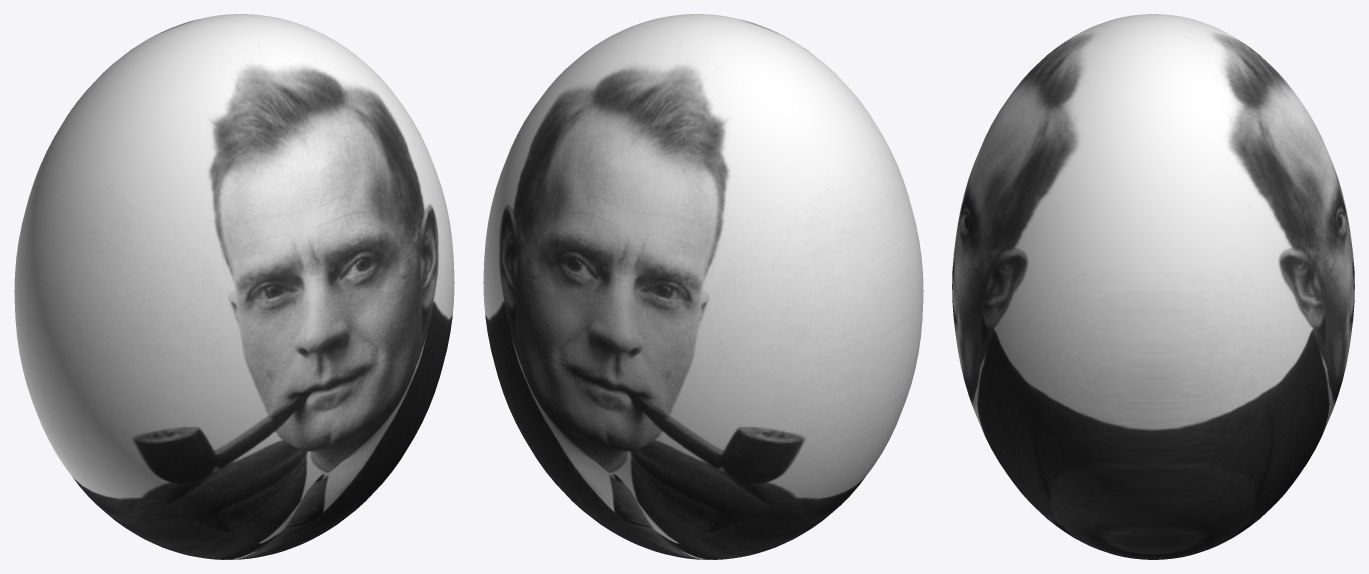
The picture shows the model from 3 angles, left to right: view 1: azimuth 30°, elevation 25°; view 2: azimuth 150°, elevation 25°; view 3: azimuth 270°, elevation 25°; orthographic projection.
Parts seen in each view (by area): view 1: head; view 2: head; view 3: head.
Part boxes in pixels (x1,y1,x2,y2): head: (14,14,454,559); head: (483,14,923,559); head: (952,14,1354,559).
Size of the model in its own units: 1.58 by 2 by 1.42.
1 material, 1 textured.
